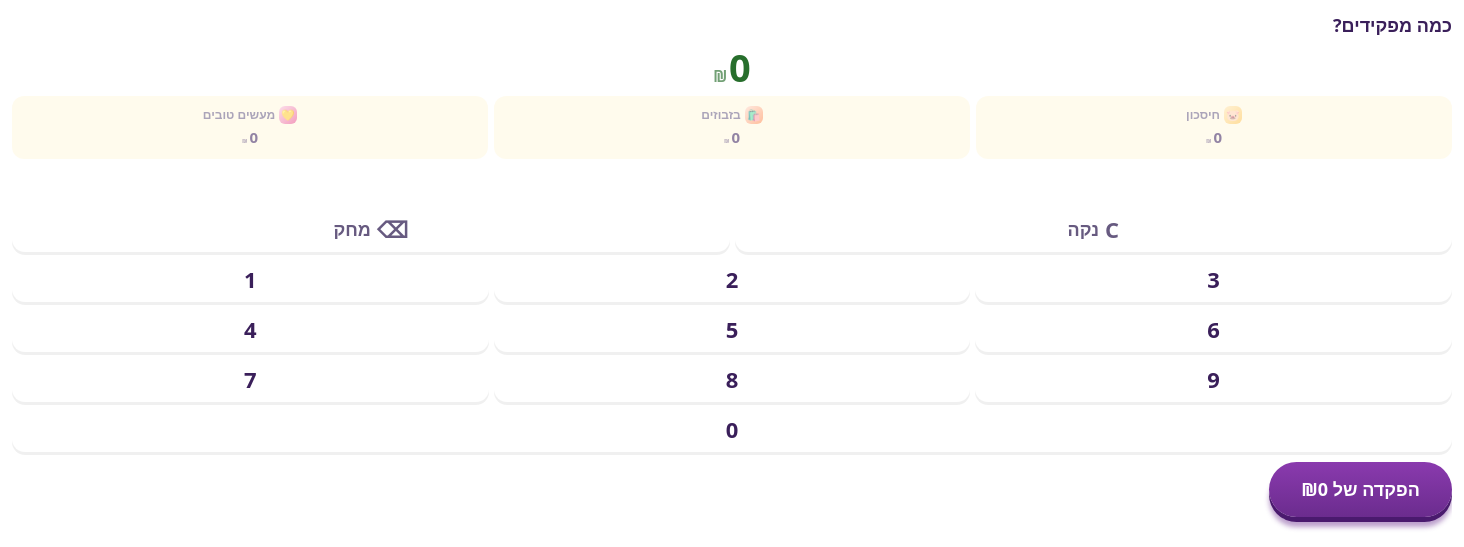
Test case: DepositForm › shows an error, and does not report it saved, when the deposit fails
The width and height of the screenshot is (1464, 547).
Click the button "2": (732, 279) [494,256,970,302]
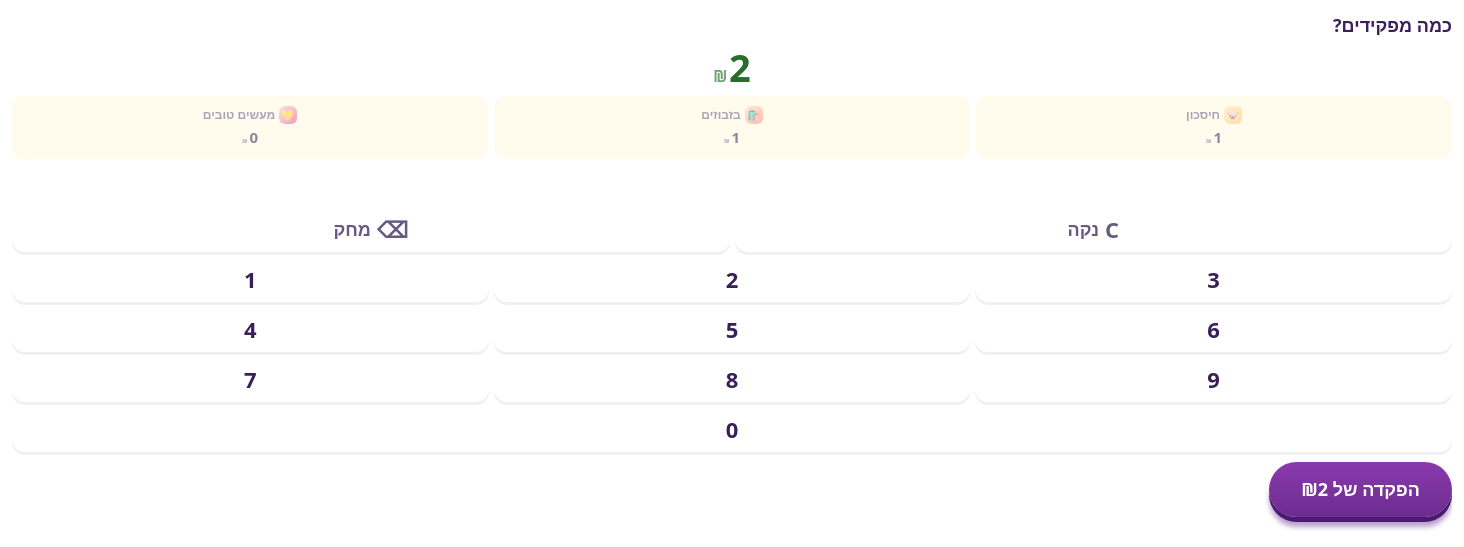
Click the button "0": (732, 429) [12,406,1452,452]
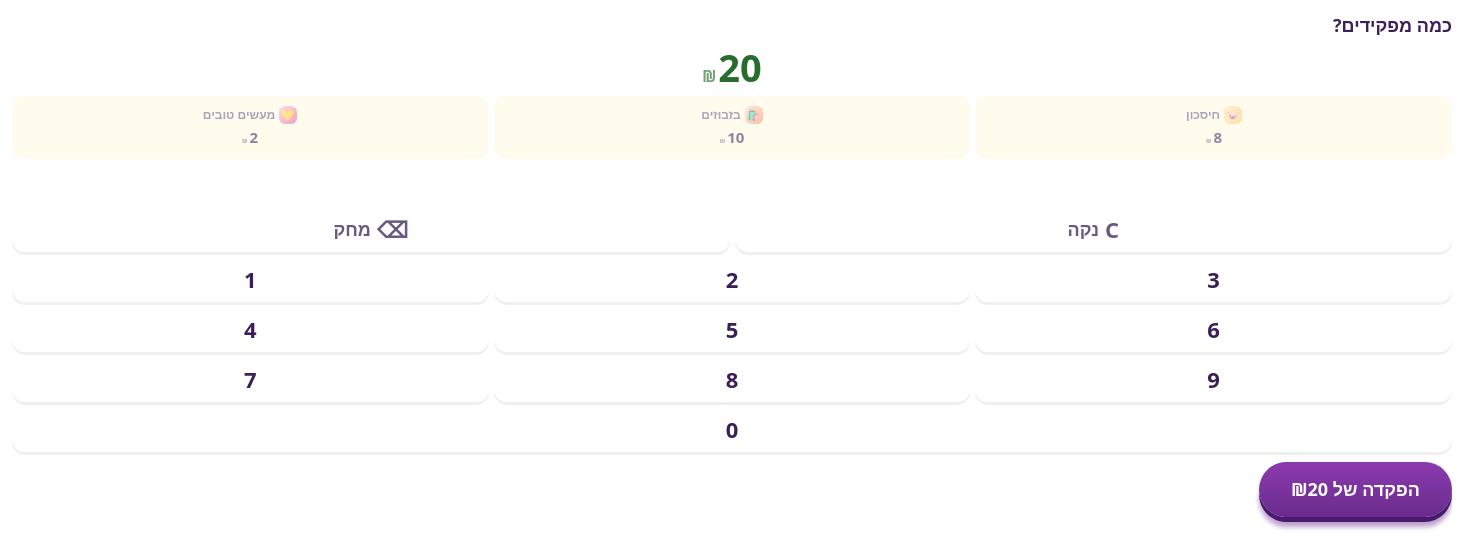
Click the button with test id "transaction-drawer-confirm": (1355, 489) [1259,462,1452,516]
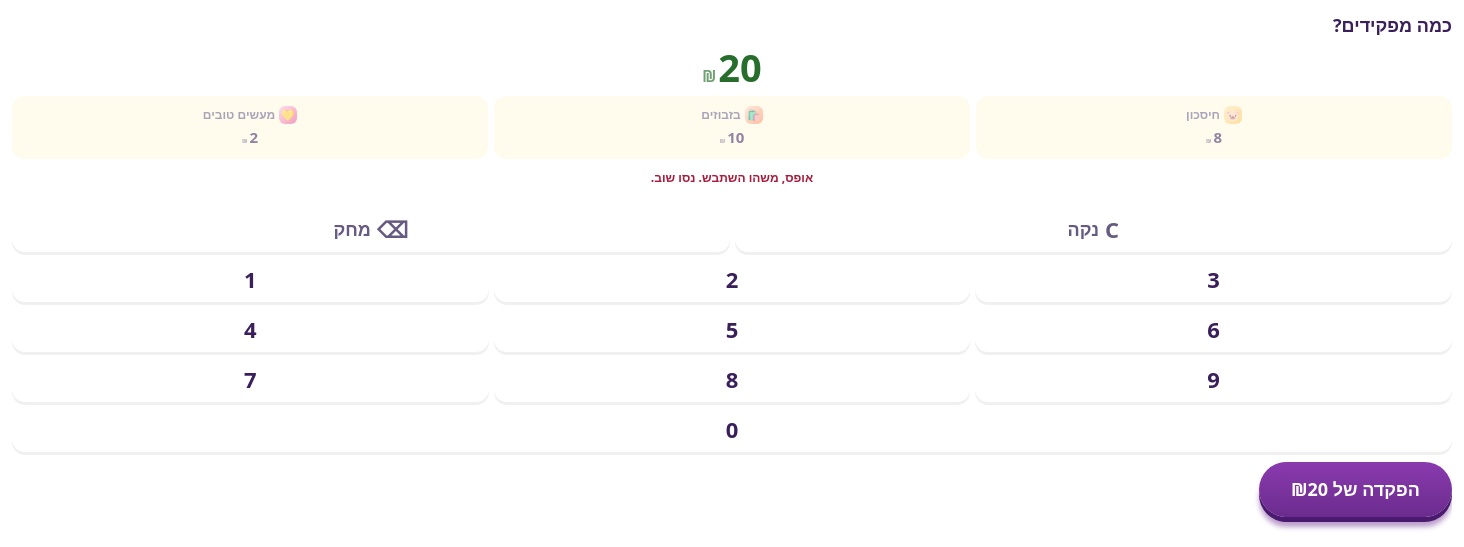
Now the element with test id "transaction-drawer-amount" shows "20", box [718,41,762,93]
Now the text "אופס, משהו השתבש. נסו שוב." is shown, box [651,168,813,186]
